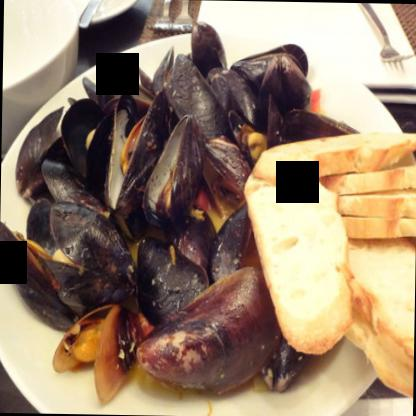mussel: (137, 270, 277, 394), (94, 90, 171, 228), (51, 300, 140, 394), (145, 121, 202, 230)
